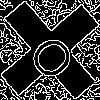O: (25, 25, 85, 85)
